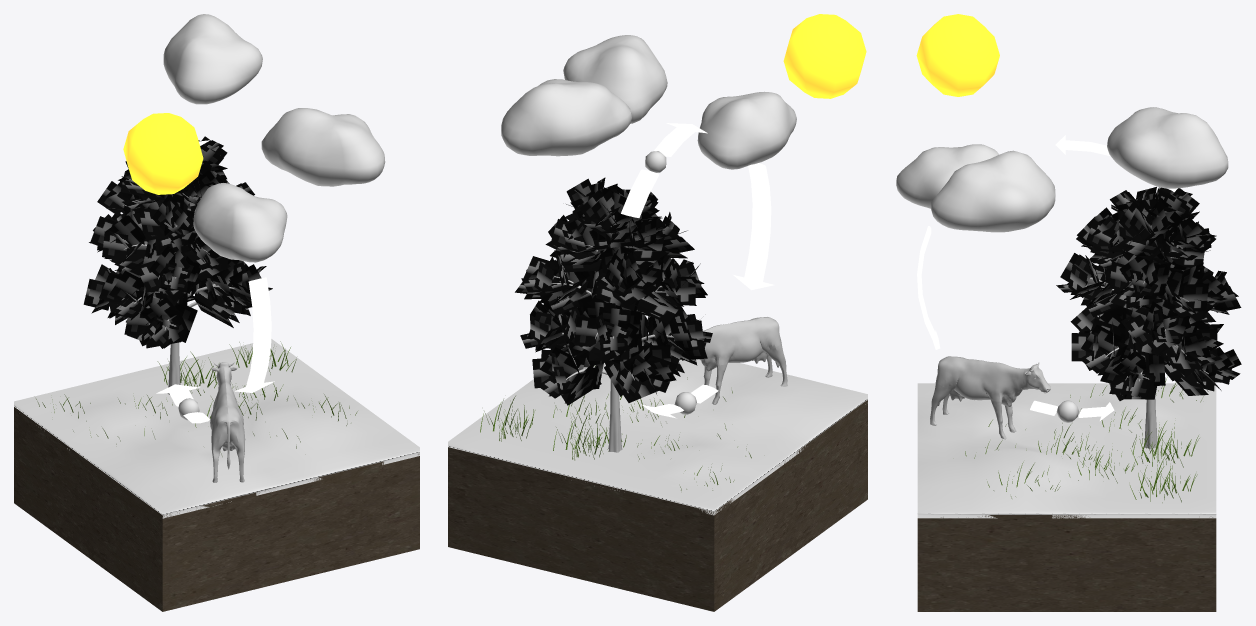
Rendered from Oxygen cycle.fbx.
The picture shows the model from 3 angles, left to right: view 1: azimuth 30°, elevation 25°; view 2: azimuth 150°, elevation 25°; view 3: azimuth 270°, elevation 25°; orthographic projection. The views are drawn at different scales.
Visible parts, largest first — view 1: Cube, Cube.001, LowPolyTree, cloud.002, Sphere, Cone, vaca, pPlane12, LowPolyTree.002; view 2: Cube, Cube.001, LowPolyTree, cloud.002, Sphere, Cone, vaca, pPlane12, LowPolyTree.002, Sphere.001; view 3: Cube.001, Cube, LowPolyTree, cloud.002, Sphere, vaca, pPlane12, Cone, LowPolyTree.002.
Part boxes in pixels (x1,y1,x2,y2): Cube: (14,407,419,611); Cube.001: (14,339,419,518); LowPolyTree: (83,136,272,348); cloud.002: (163,14,385,262); Sphere: (123,113,203,194); Cone: (156,140,274,423); vaca: (210,362,245,482); pPlane12: (36,341,357,456); LowPolyTree.002: (122,196,234,394); Cube: (448,400,867,611); Cube.001: (448,359,867,515); LowPolyTree: (515,177,712,405); cloud.002: (501,35,796,169); Sphere: (783,14,866,98); Cone: (621,123,774,418); vaca: (699,317,787,404); pPlane12: (480,365,751,490); LowPolyTree.002: (551,220,677,452); Sphere.001: (645,151,696,414); Cube.001: (917,383,1216,518); Cube: (917,515,1216,611); LowPolyTree: (1056,187,1241,400); cloud.002: (896,107,1228,232); Sphere: (916,14,999,96); vaca: (930,356,1050,439); pPlane12: (965,377,1203,502); Cone: (917,135,1177,420); LowPolyTree.002: (1085,242,1208,449).
Bounding box in the file's own units: 212 × 353 × 231.
